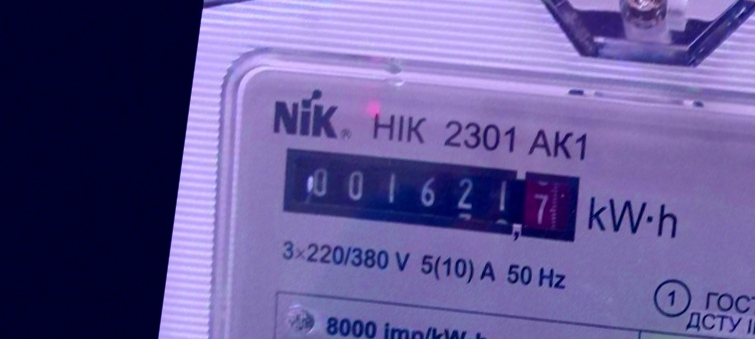0: (342, 164, 369, 204), (307, 162, 332, 198)
1: (493, 175, 512, 213), (382, 168, 401, 205)
2: (453, 173, 478, 212)
6: (416, 172, 439, 209)
7: (527, 188, 551, 227)
screen: (273, 134, 589, 255)
